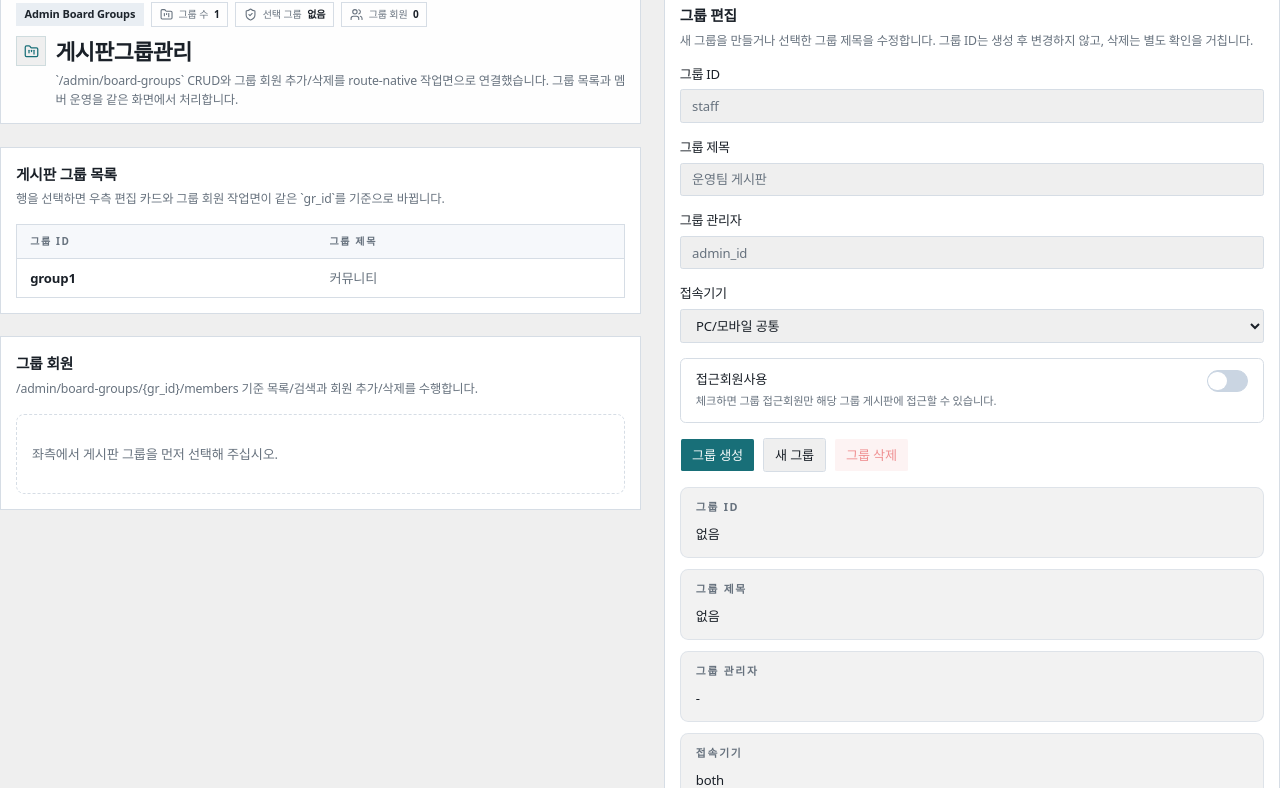
Test: AdminBoardGroupsPage › hydrates legacy parity fields for the selected group
The width and height of the screenshot is (1280, 788).
Click the text "커뮤니티" at (353, 278), box [330,269,377,287]
(page scrolled)
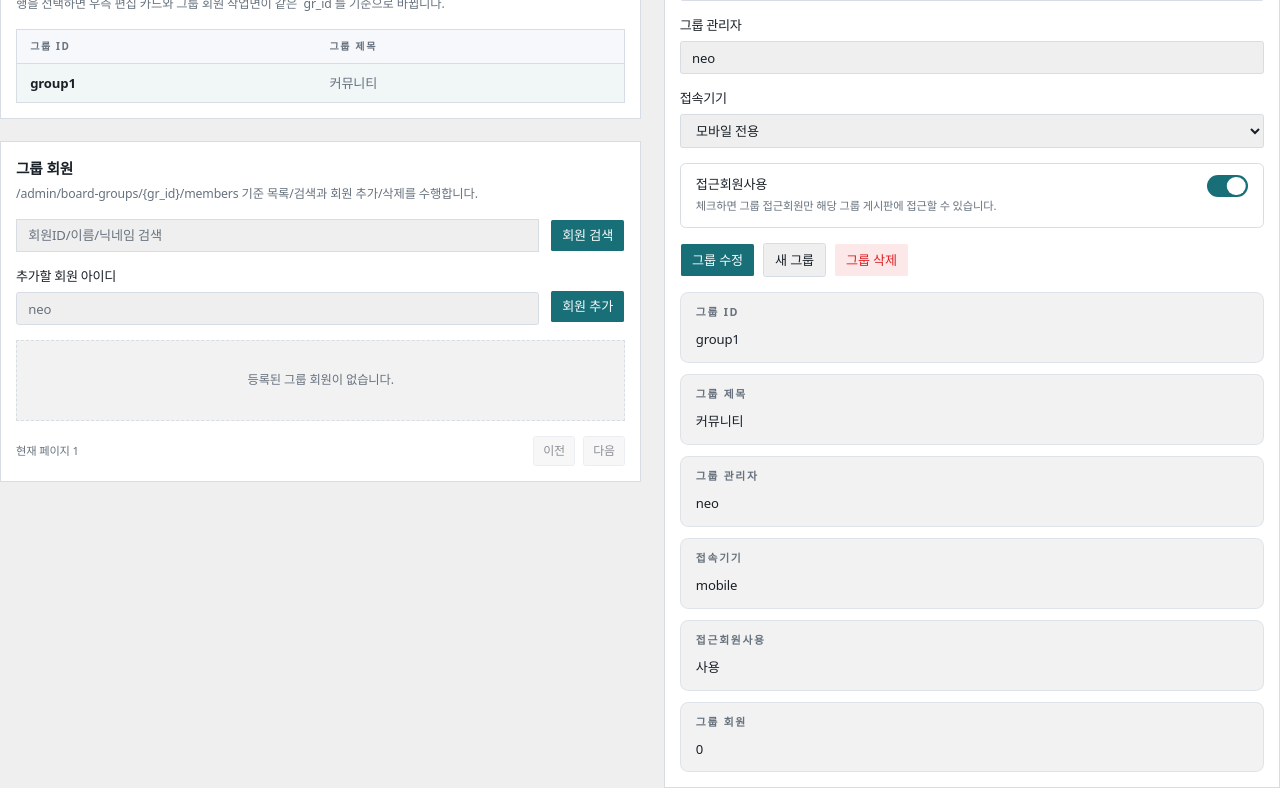
Expected: the text "접근회원사용" is shown, [696,175,767,193]
Now the field labelled "그룹 관리자" holds "neo", box [681,42,1263,74]
Now the dropdown labelled "접속기기" shows "모바일 전용", box [680,114,1264,148]
